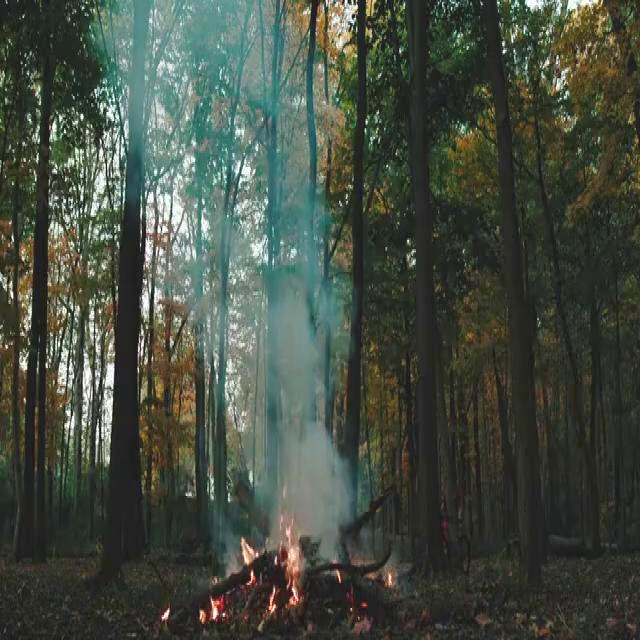smoke: (263, 200, 353, 532)
